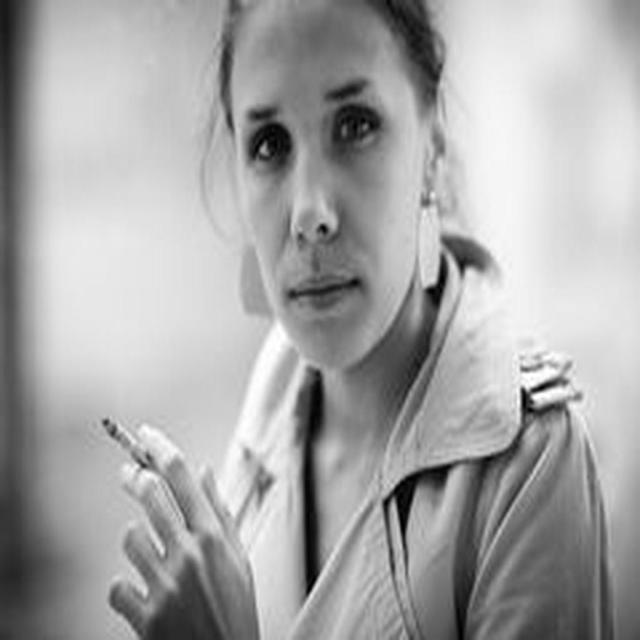smoking: (81, 0, 471, 624)
